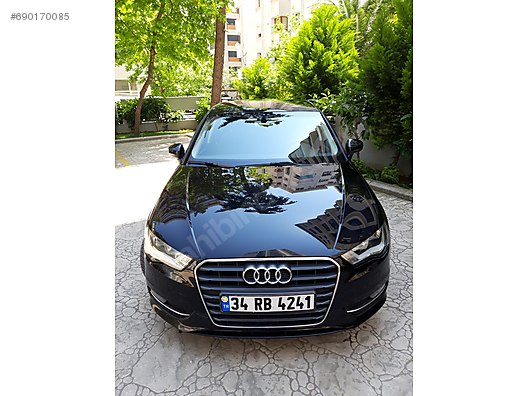audi: (238, 262, 297, 289)
